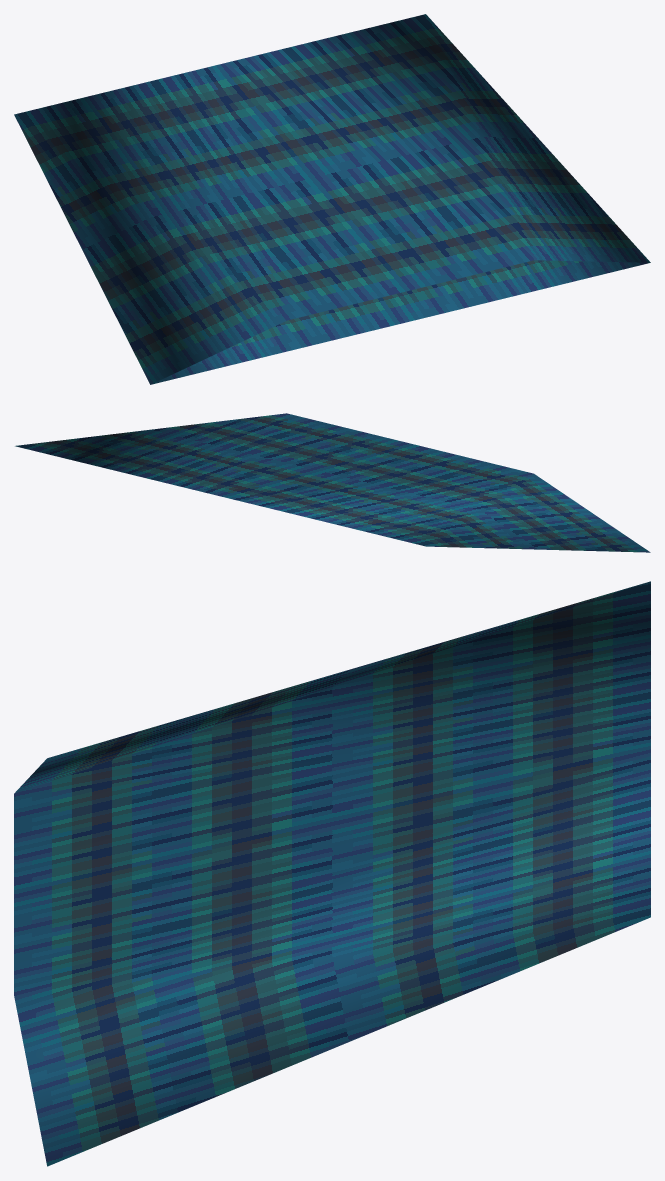
The model's file is 2261skirt00_r.gltf.
3 renders of one model, top to bottom at view 1: azimuth 30°, elevation 25°; view 2: azimuth 150°, elevation 25°; view 3: azimuth 270°, elevation 25°, orthographic. The views are drawn at different scales.
Visible parts, largest first — view 1: 2261skirt00_r; view 2: 2261skirt00_r; view 3: 2261skirt00_r.
Boxes of the visible parts, left/top/right/bottom form: 2261skirt00_r: left=14, top=14, right=650, bottom=384; 2261skirt00_r: left=15, top=413, right=650, bottom=552; 2261skirt00_r: left=14, top=581, right=650, bottom=1166.
Bounding box in the file's own units: 0.9868 × 0.24 × 0.6504.
Materials: 1 (1 with a texture image).
